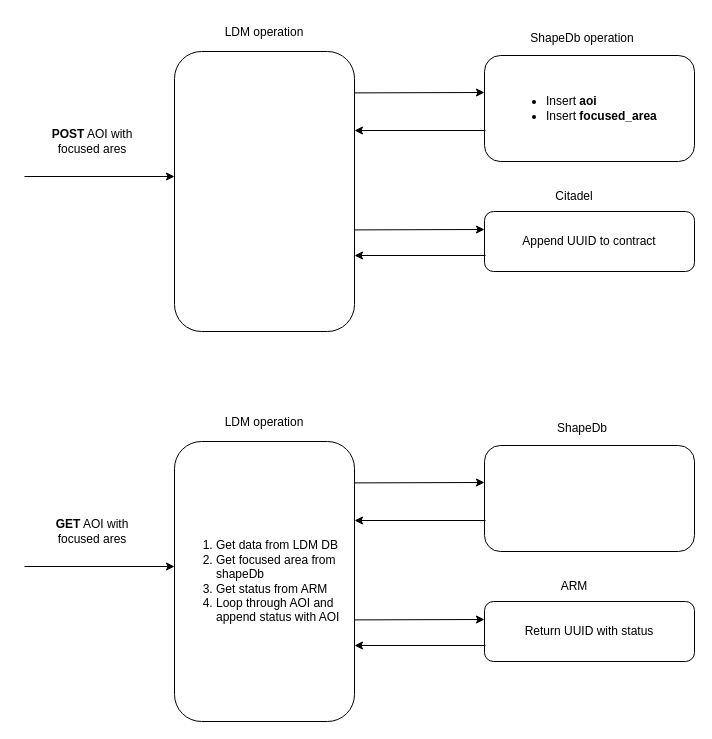
The diagram is 712 pixels wide and 739 high, and some of its shapes have lost their labels. Here are the shapes that lost their labels. From the top down, the centre of each, then its label:
At [264,191]: "Request to ShapeDb Request to Citadel Insert data into LDM".
At [589,498]: "Return focused area by UUID".
